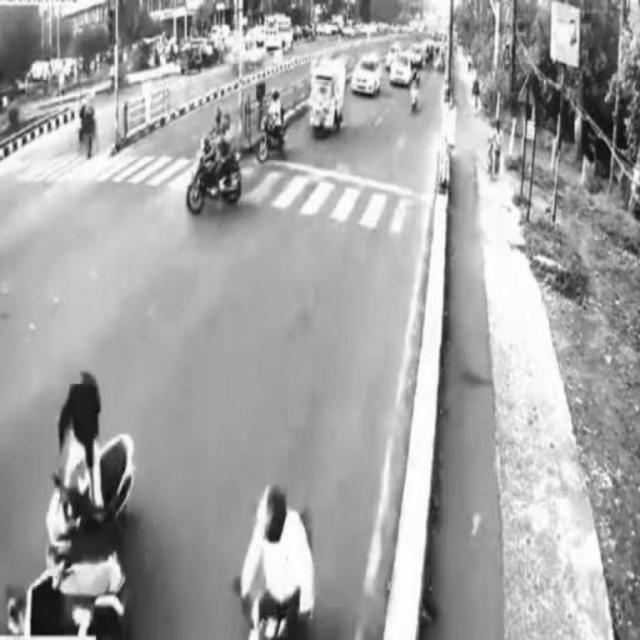accident: (12, 374, 164, 640)
vehicle: (230, 478, 328, 640), (185, 135, 243, 212), (310, 58, 345, 136), (258, 91, 292, 162), (352, 52, 382, 98)
